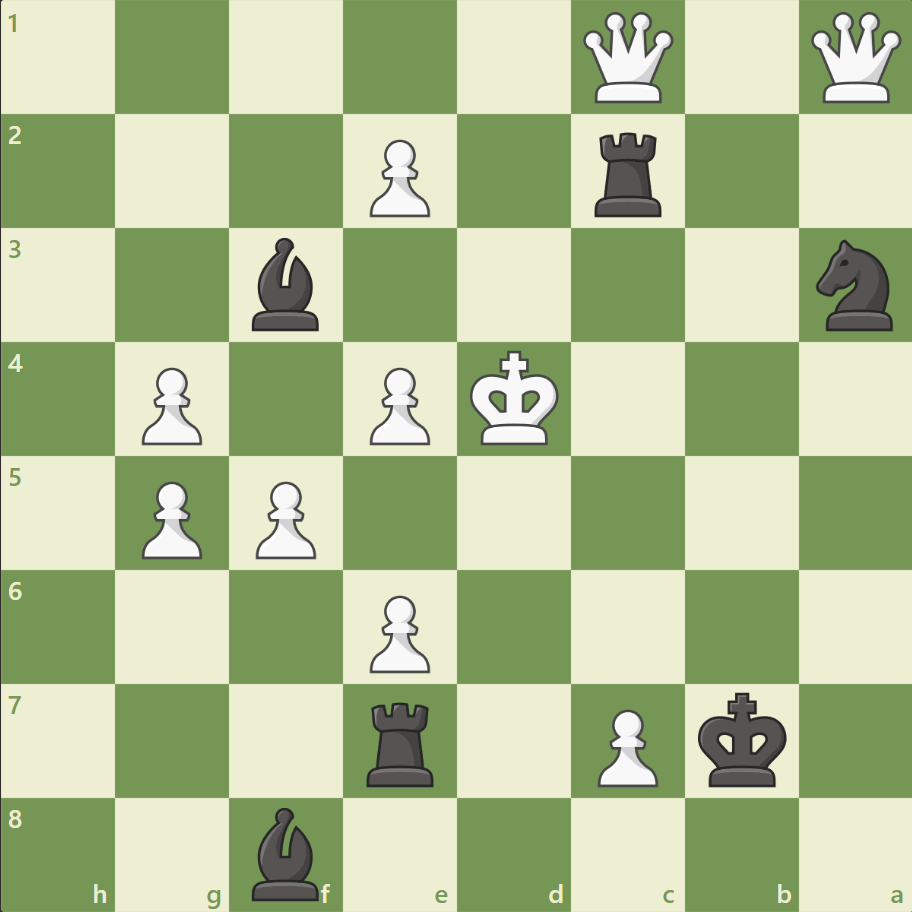K: (465, 344, 565, 452)
P: (247, 473, 322, 564), (133, 473, 208, 564), (133, 359, 208, 450), (588, 700, 662, 791), (361, 586, 435, 677), (361, 359, 435, 450), (361, 132, 435, 223)
Q: (805, 9, 904, 108), (578, 9, 677, 108)
b: (244, 801, 328, 904), (244, 233, 328, 336)
k: (692, 685, 792, 793)
n: (806, 234, 903, 337)
r: (587, 125, 670, 222), (360, 693, 442, 790)
